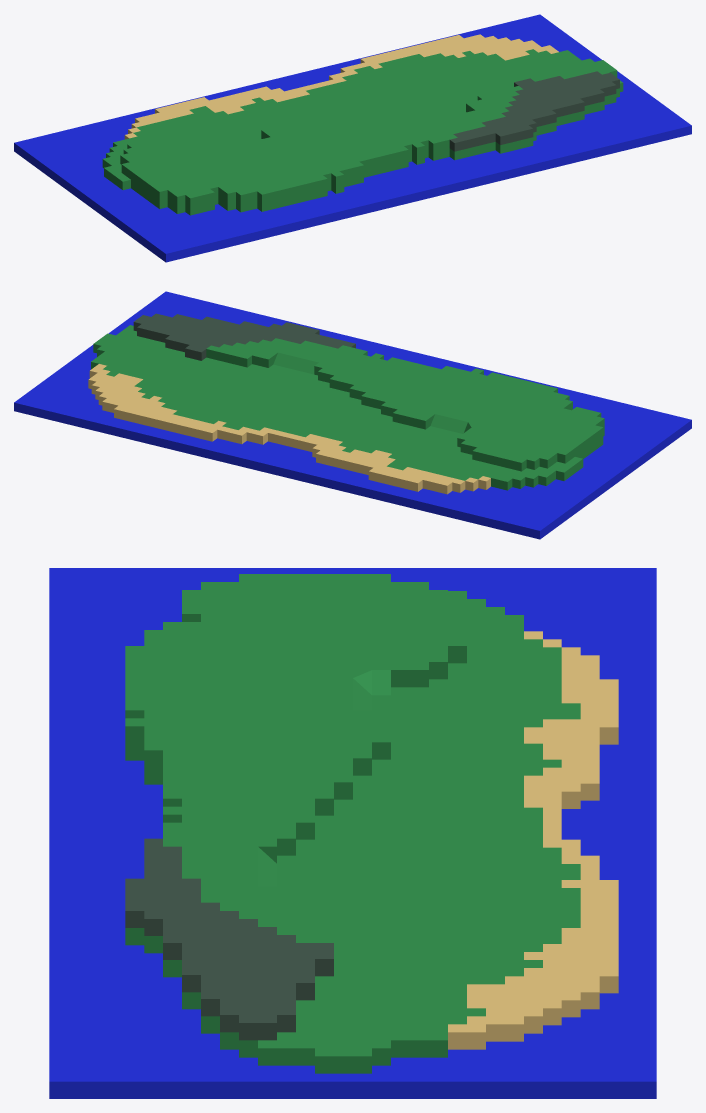
File: Field_Test.fbx
3 renders of one model, top to bottom at view 1: azimuth 30°, elevation 25°; view 2: azimuth 150°, elevation 25°; view 3: azimuth 270°, elevation 25°, orthographic. The views are drawn at different scales.
Parts seen in each view (by area): view 1: Cube, Cube.2048, Cube.3302; view 2: Cube.2048, Cube, Cube.3302; view 3: Cube, Cube.2048, Cube.3302.
Part boxes in pixels (x1,y1,x2,y2): Cube: [14, 14, 691, 262]; Cube.2048: [102, 34, 623, 215]; Cube.3302: [120, 71, 619, 206]; Cube.2048: [88, 325, 604, 494]; Cube: [14, 291, 691, 539]; Cube.3302: [133, 313, 604, 471]; Cube: [49, 568, 656, 1098]; Cube.2048: [125, 591, 618, 1073]; Cube.3302: [125, 574, 466, 1040].
Bounding box in the file's own units: 12800 × 600 × 6400.
